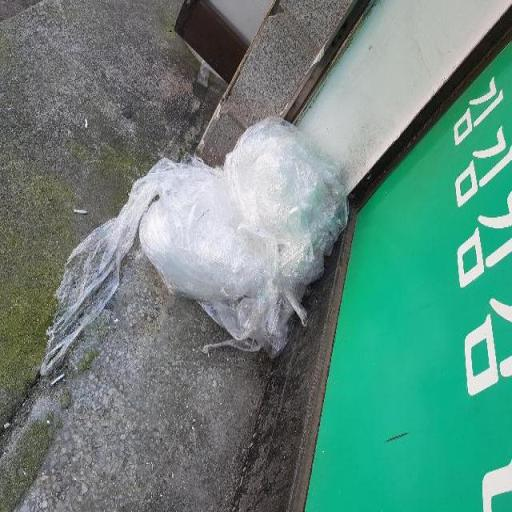plastic-bag: (139, 114, 348, 368)
